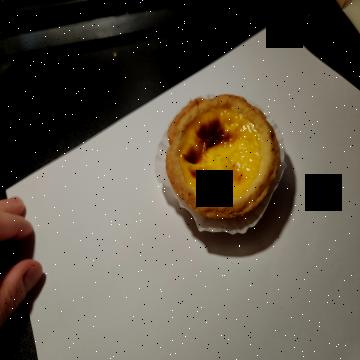EggTart: (167, 94, 278, 219)
